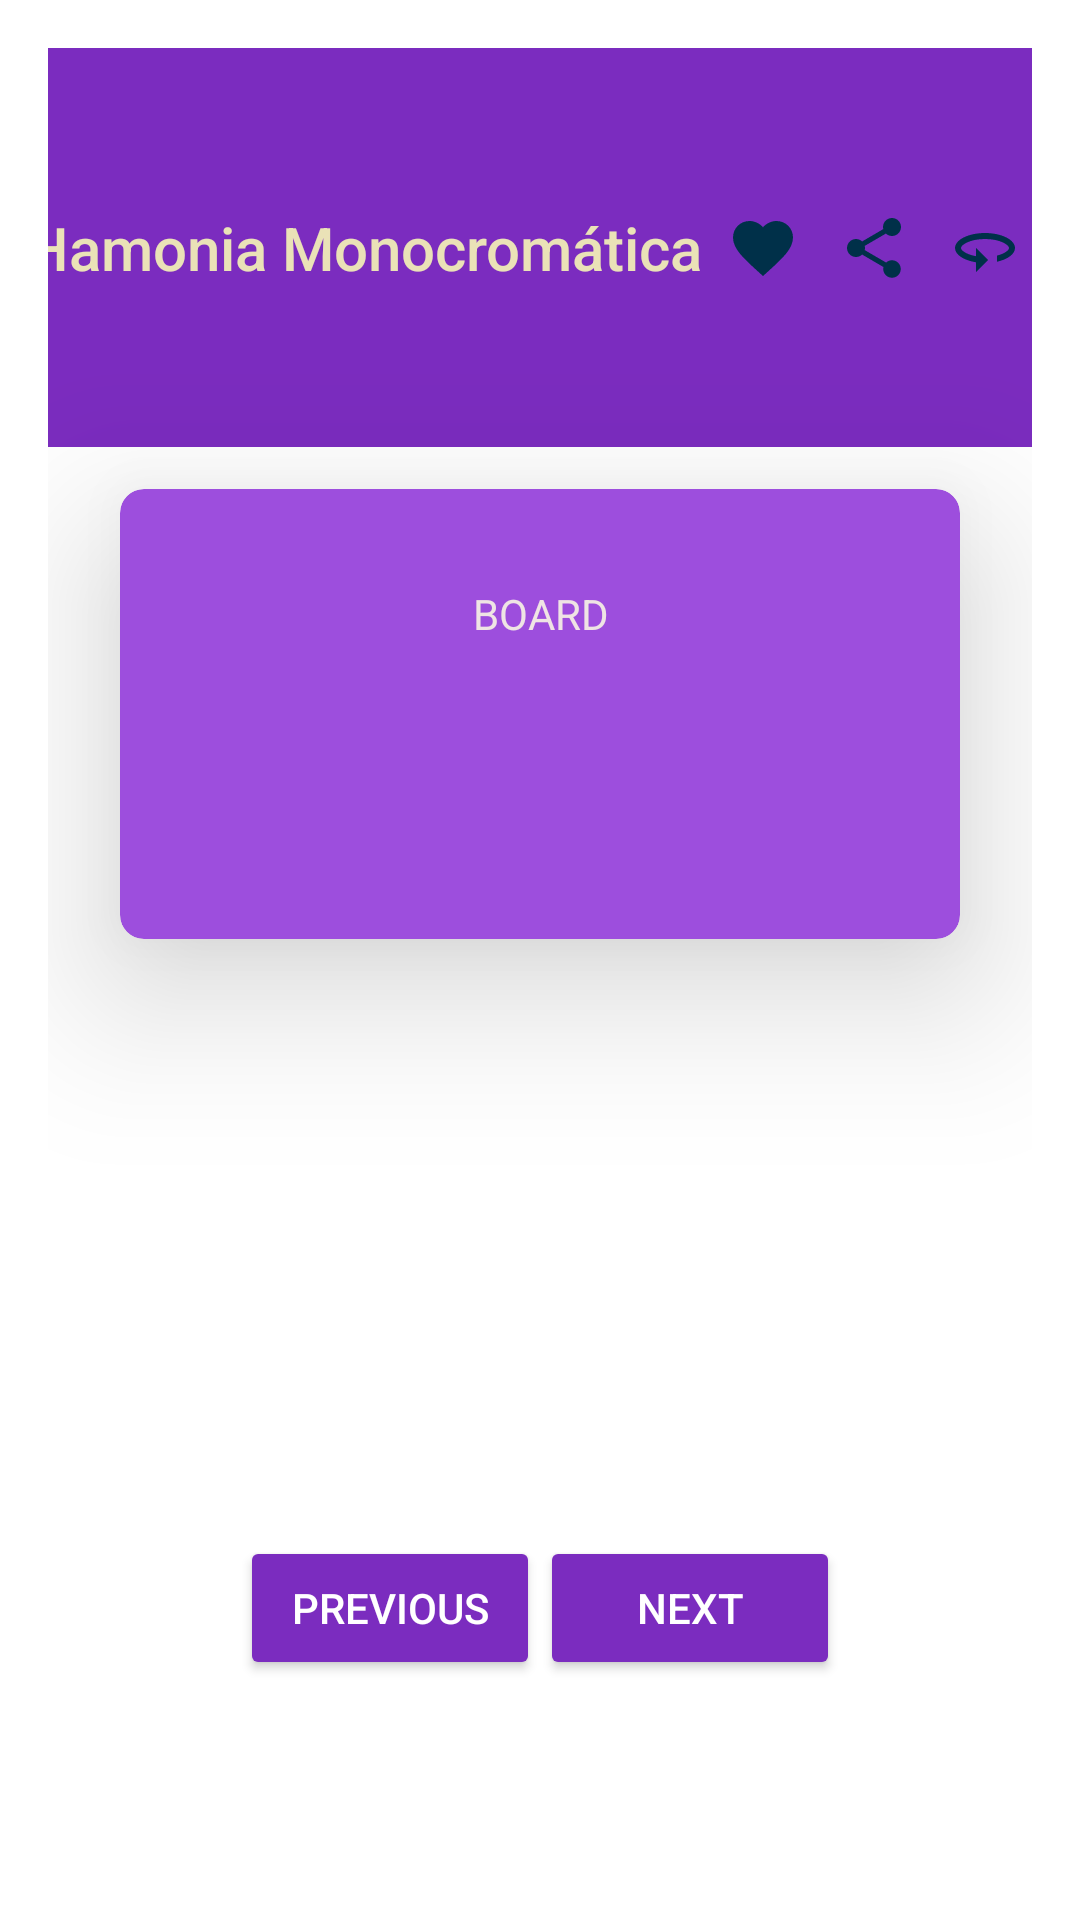

Locate icon controls on the screen. Image size 1080px x 1920px, boxes as (x1, y1, x2, y2).
like: (733, 221, 793, 276)
share: (847, 218, 901, 278)
